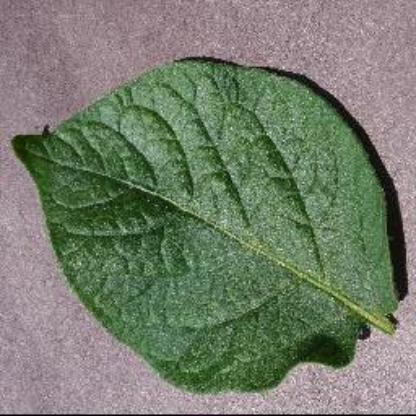Healthy-plant: (11, 54, 412, 400)
